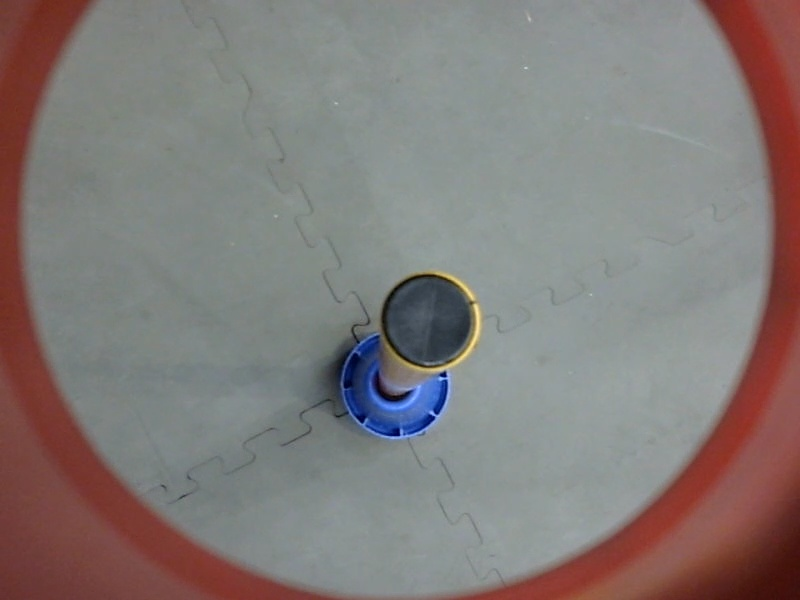tip: (375, 268, 487, 377)
